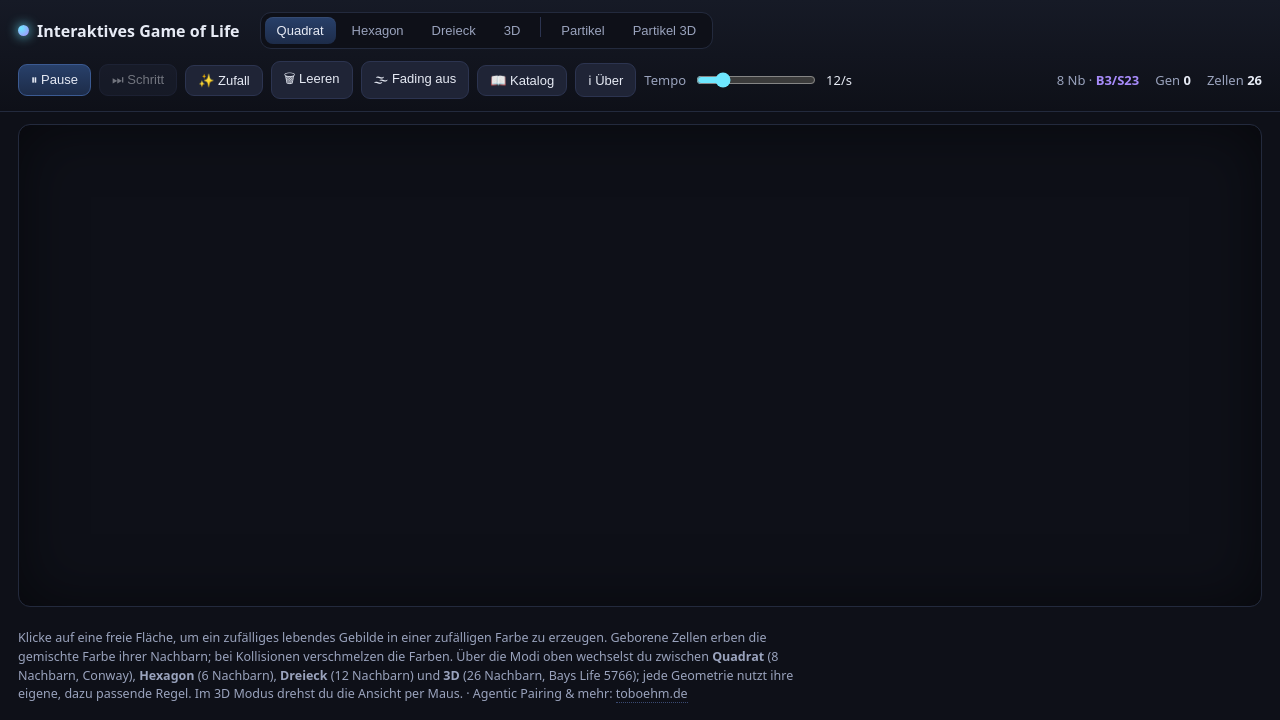
Particle Life mode › offers the particle-only controls
This screenshot has width=1280, height=720.
Click the button "Partikel". click: (583, 30)
box: [549,17,617,44]
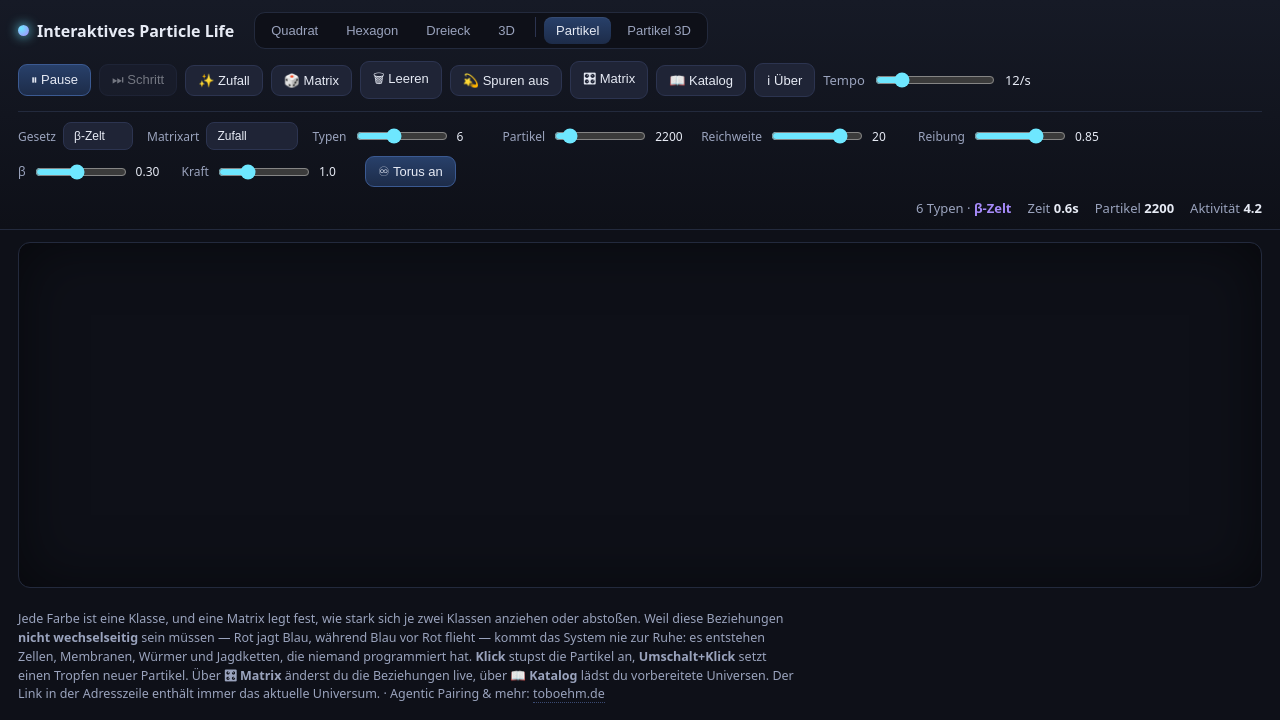
Check: the button "🎲 Matrix" is shown, box [271,64,352,96]
Check: the button "💫 Spuren aus" is shown, box [450,64,562,96]
Check: the button "♾ Torus an" is shown, box [365,156,456,187]
